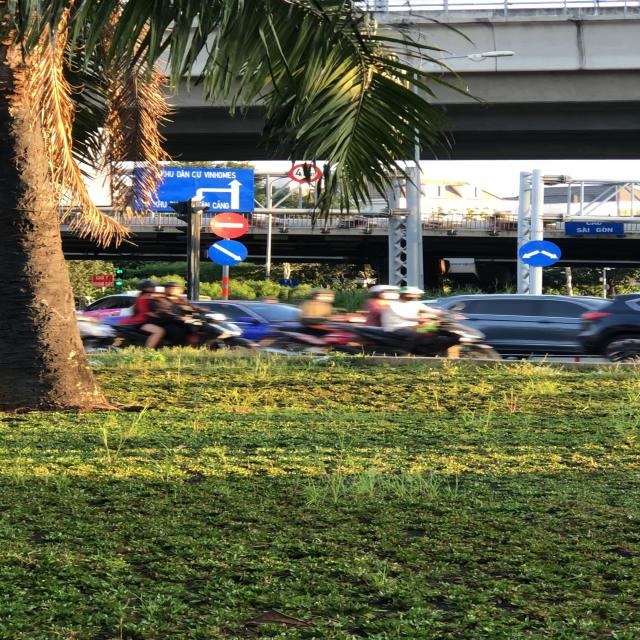Bien bao cam di nguoc chieu: (202, 211, 256, 238)
Bien bao huong phai di vong chuong ngai vat: (514, 239, 564, 268), (205, 238, 254, 267)
